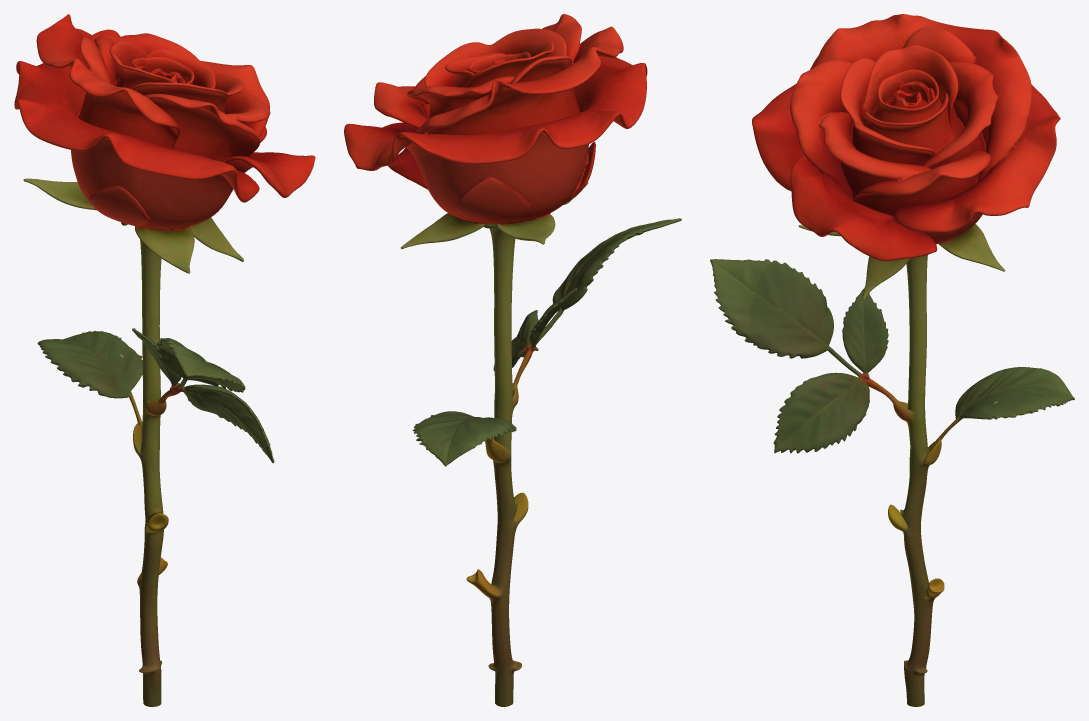
File: redrose3.glb
3 views of the same model, side by side, from view 1: azimuth 30°, elevation 25°; view 2: azimuth 150°, elevation 25°; view 3: azimuth 270°, elevation 25° (orthographic). The views are drawn at different scales.
Visible parts, largest first — view 1: tripo_node_9a9045ee-be59-4a26-987a-07c4d6a944a1; view 2: tripo_node_9a9045ee-be59-4a26-987a-07c4d6a944a1; view 3: tripo_node_9a9045ee-be59-4a26-987a-07c4d6a944a1.
Part boxes in pixels (box(x1,y1,x2,y2)): tripo_node_9a9045ee-be59-4a26-987a-07c4d6a944a1: box(14, 14, 315, 706); tripo_node_9a9045ee-be59-4a26-987a-07c4d6a944a1: box(344, 14, 681, 706); tripo_node_9a9045ee-be59-4a26-987a-07c4d6a944a1: box(710, 14, 1074, 706).
Size of the model in its own units: 0.3856 by 0.9779 by 0.4973.
1 material, 1 textured.
